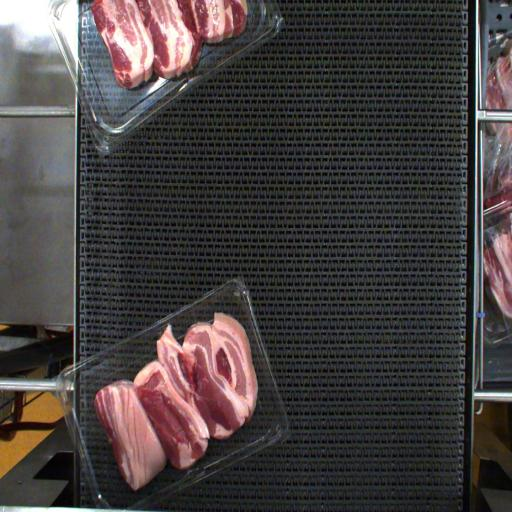twisted-meat: (108, 384, 164, 482)
